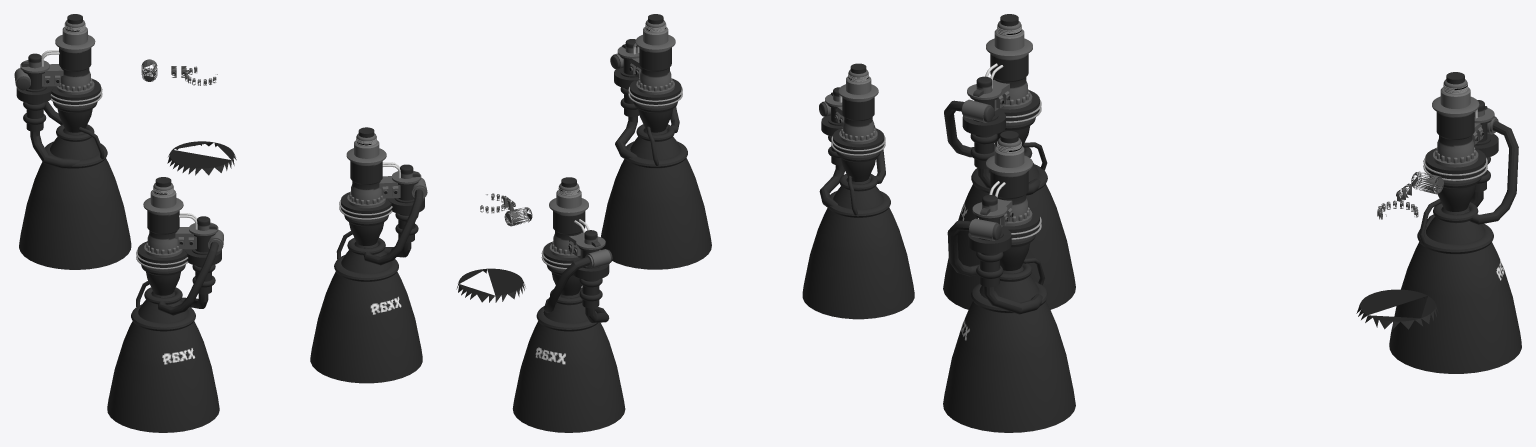
File: ESP-Starship-Part-007.obj
3 renders of one model, left to right at view 1: azimuth 30°, elevation 25°; view 2: azimuth 150°, elevation 25°; view 3: azimuth 270°, elevation 25°, orthographic. The views are drawn at different scales.
Visible parts, largest first — view 1: Booster__Raptor_3_007_Cylinder.040, Booster__Raptor_3_009_Cylinder.041, Booster__Raptor_3_004_Cylinder.039, Booster__Raptor_3_012_Cylinder.038; view 2: Booster__Raptor_3_009_Cylinder.041, Booster__Raptor_3_007_Cylinder.040, Booster__Raptor_3_004_Cylinder.039, Booster__Raptor_3_012_Cylinder.038; view 3: Booster__Raptor_3_004_Cylinder.039, Booster__Raptor_3_009_Cylinder.041, Booster__Raptor_3_007_Cylinder.040, Booster__Raptor_3_012_Cylinder.038.
Part boxes in pixels (x1,y1,x2,y2): Booster__Raptor_3_007_Cylinder.040: [107, 177, 223, 432]; Booster__Raptor_3_009_Cylinder.041: [310, 127, 427, 383]; Booster__Raptor_3_004_Cylinder.039: [14, 14, 131, 269]; Booster__Raptor_3_012_Cylinder.038: [141, 59, 236, 175]; Booster__Raptor_3_009_Cylinder.041: [600, 14, 711, 269]; Booster__Raptor_3_007_Cylinder.040: [802, 63, 914, 319]; Booster__Raptor_3_004_Cylinder.039: [512, 177, 625, 432]; Booster__Raptor_3_012_Cylinder.038: [456, 193, 532, 302]; Booster__Raptor_3_004_Cylinder.039: [1389, 72, 1521, 373]; Booster__Raptor_3_009_Cylinder.041: [943, 131, 1075, 432]; Booster__Raptor_3_007_Cylinder.040: [943, 14, 1075, 309]; Booster__Raptor_3_012_Cylinder.038: [1356, 171, 1443, 329].
Size of the model in its own units: 3.85 by 2.77 by 5.39.
4 materials, 4 textured.
